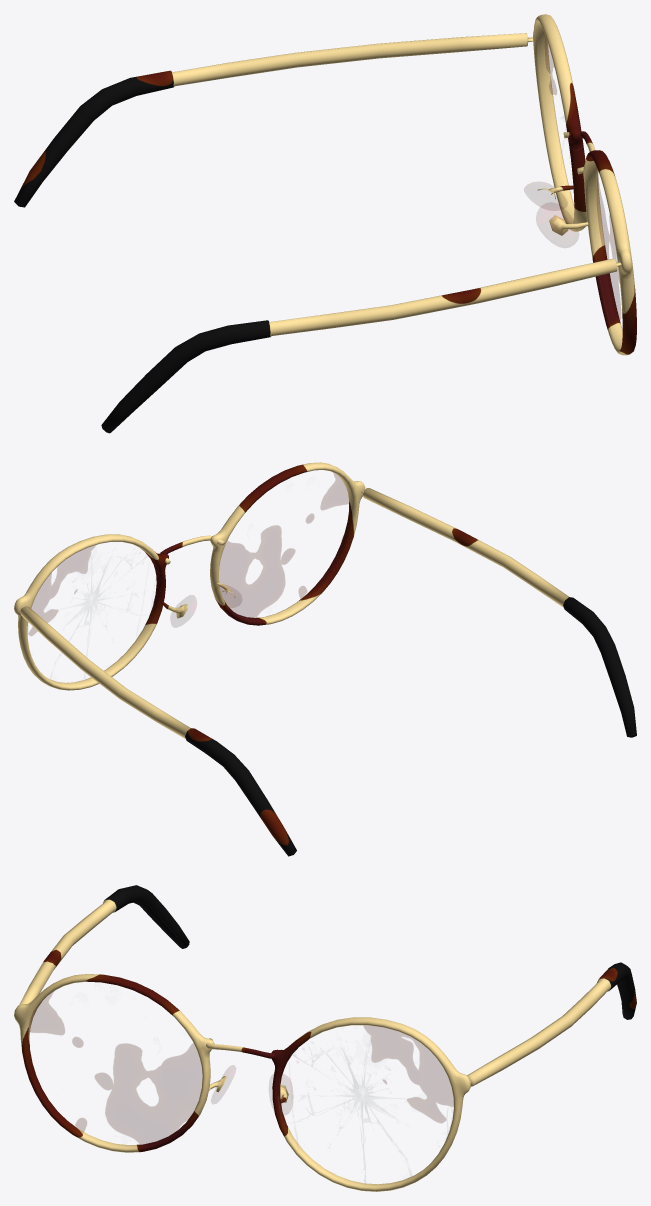
The model's file is bloody_glasses.glb.
The picture shows the model from 3 angles, top to bottom: view 1: azimuth 30°, elevation 25°; view 2: azimuth 150°, elevation 25°; view 3: azimuth 270°, elevation 25°; orthographic projection. The views are drawn at different scales.
Parts seen in each view (by area): view 1: Body_2_Lo_3, Body_Lo_1, Glasses_Lo_dec_0; view 2: Body_2_Lo_3, Body_Lo_1, Glasses_Lo_dec_0; view 3: Glasses_Lo_dec_0, Body_Lo_1, Body_2_Lo_3.
Part boxes in pixels (<box>): Body_2_Lo_3: <box>14,33,617,433</box>; Body_Lo_1: <box>524,14,636,355</box>; Glasses_Lo_dec_0: <box>545,37,620,319</box>; Body_2_Lo_3: <box>20,488,636,856</box>; Body_Lo_1: <box>14,462,365,690</box>; Glasses_Lo_dec_0: <box>28,473,349,678</box>; Glasses_Lo_dec_0: <box>27,991,453,1183</box>; Body_Lo_1: <box>14,974,470,1191</box>; Body_2_Lo_3: <box>19,885,636,1103</box>.
Bounding box in the file's own units: 0.1671 × 0.0501 × 0.1696.
Materials: 3 (3 with a texture image).
